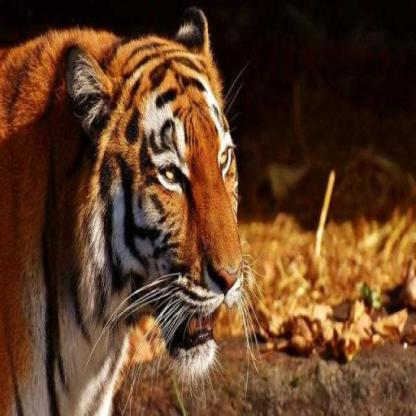Tiger: (0, 4, 246, 415)
